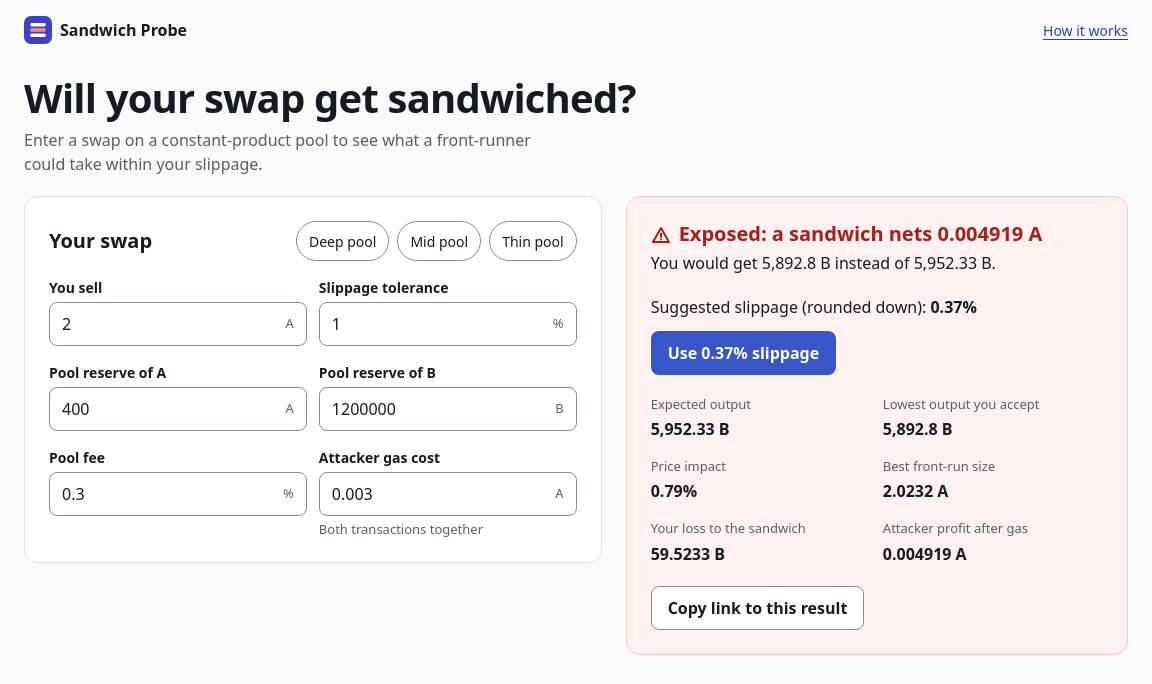
Test: App › loads each example pool
Click the button "Deep pool": [343, 241] box [296,221,389,261]
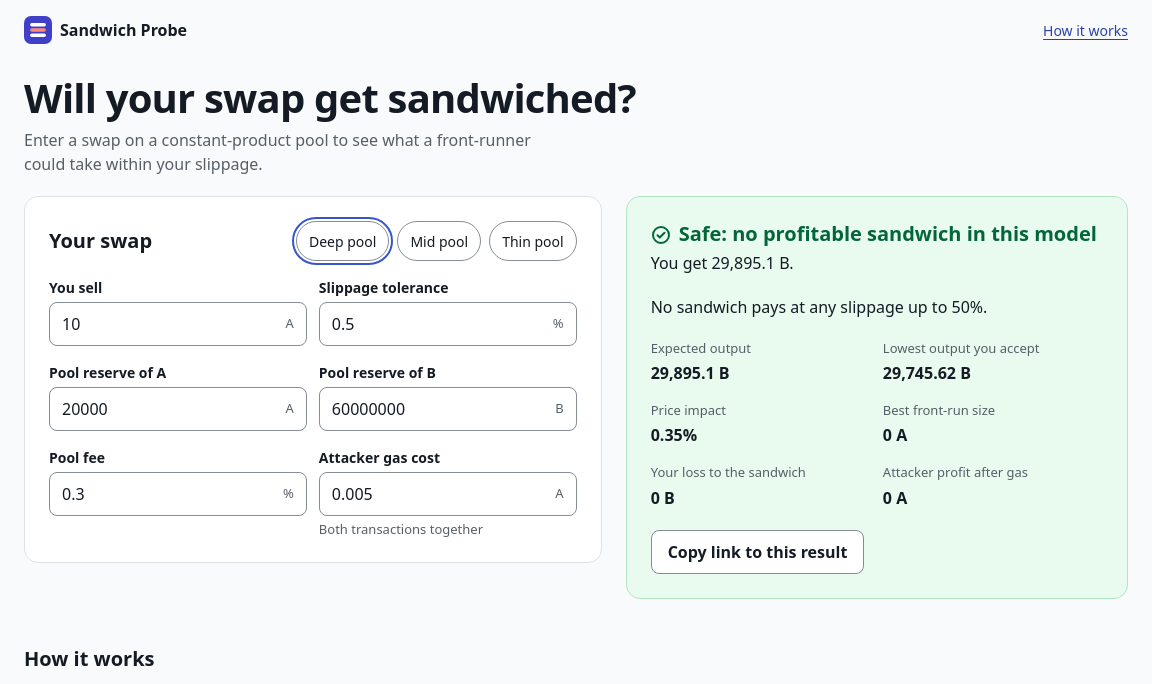
Now the field labelled "Pool reserve of A" holds "20000", box [50,389,286,429]
Now the message shows "Safe", box [679,220,1097,247]
Now the text "No sandwich pays at any slippage up to 50%." is shown, box [651,295,987,319]
Click the button "Thin pool": [533, 241] box [489,221,577,261]
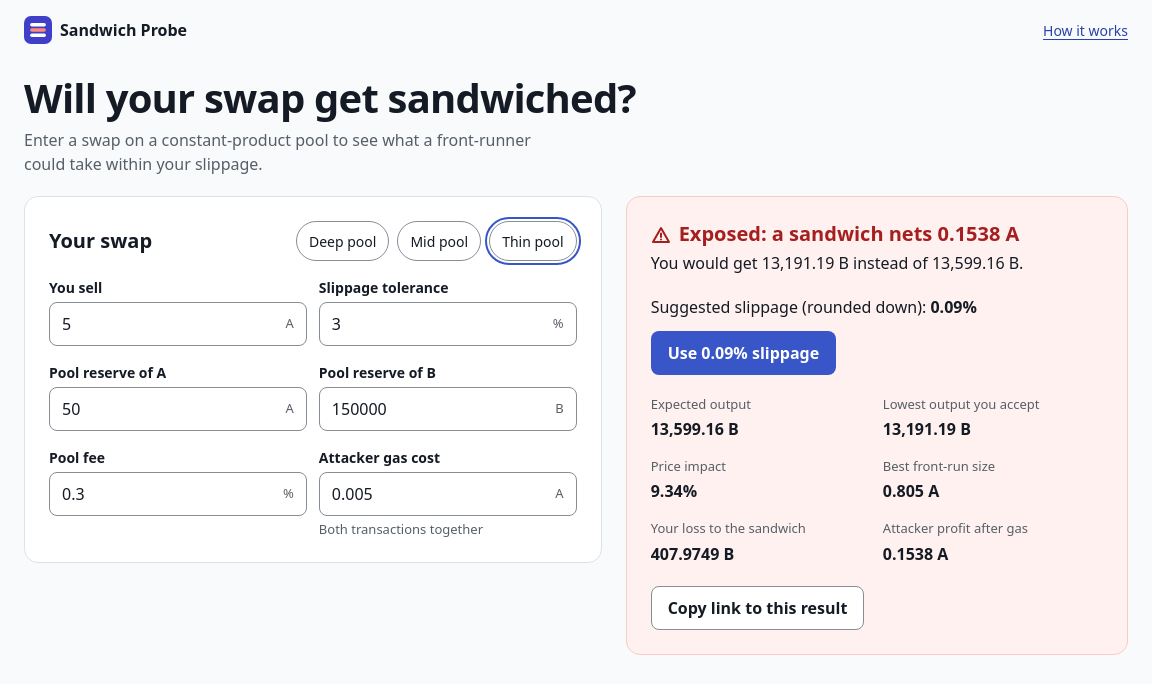
Now the field labelled "Pool reserve of A" holds "50", box [50,389,286,429]
Now the message shows "Exposed", box [679,220,938,247]
